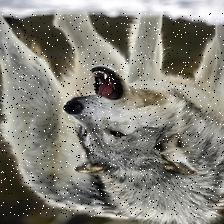WOLF: (0, 12, 224, 216)
